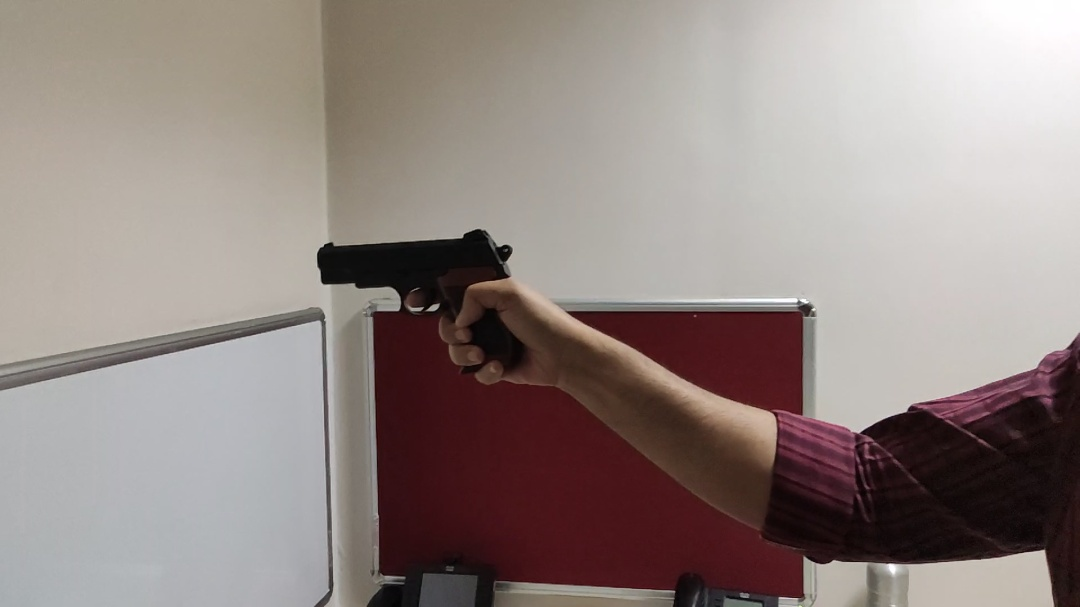gun: (314, 228, 528, 376)
